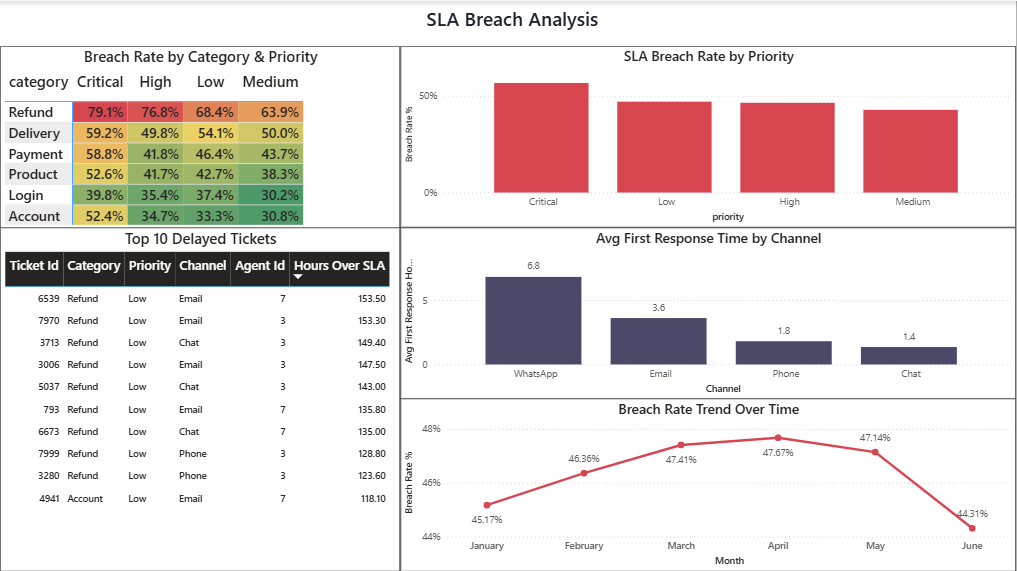

The dashboard page shown, as its layout file describes it:
{"tool":"powerbi","page":{"name":"SLA Breach Analysis","canvas":[1280,720],"ordinal":1},"visuals":[{"type":"textbox","box":[11.3,0,1268,69.9],"z":0},{"type":"pivotTable","title":"Breach Rate by Category & Priority","fields":{"Rows":["SLA Breach Analysis.category"],"Columns":["SLA Breach Analysis.priority"],"Values":["SLA Breach Analysis.Breach Rate %"]},"box":[0,57.5,504.2,239.2],"z":1000},{"type":"clusteredColumnChart","title":"SLA Breach Rate by Priority","fields":{"Y":["SLA Breach Analysis.Breach Rate %"],"Category":["SLA Breach Analysis.priority"]},"box":[504.2,57.5,775.3,228.6],"z":2000},{"type":"clusteredColumnChart","title":"Avg First Response Time by Channel ","fields":{"Category":["SLA Breach Analysis.channel"],"Y":["SLA Breach Analysis.Avg First Response Hours (Ticket)"]},"box":[504.2,284.7,775.3,216.5],"z":3000},{"type":"lineChart","title":"Breach Rate Trend Over Time","fields":{"Category":["SLA Breach Analysis.created_month.Variation.Date Hierarchy.Month","SLA Breach Analysis.created_month.Variation.Date Hierarchy.Day"],"Y":["SLA Breach Analysis.Breach Rate %"]},"box":[504.2,501.2,775.3,218],"z":4000},{"type":"tableEx","title":"Top 10 Delayed Tickets","fields":{"Values":["Top Delayed Tickets.ticket_id","Top Delayed Tickets.category","Top Delayed Tickets.priority","Top Delayed Tickets.channel","Top Delayed Tickets.agent_id","Sum(Top Delayed Tickets.hours_over_sla)"]},"box":[0,284.7,504.2,433.1],"z":5000}]}

Visuals, with their boxes in screenshot pixels (x1, y1, x2, y2), scaled from the page's 1280x720 canvas onto the 1017x571 screenshot:
textbox: x1=9, y1=0, x2=1016, y2=55
"Breach Rate by Category & Priority" pivotTable: x1=0, y1=46, x2=401, y2=235
"SLA Breach Rate by Priority" clusteredColumnChart: x1=401, y1=46, x2=1016, y2=227
"Avg First Response Time by Channel " clusteredColumnChart: x1=401, y1=226, x2=1016, y2=397
"Breach Rate Trend Over Time" lineChart: x1=401, y1=397, x2=1016, y2=570
"Top 10 Delayed Tickets" tableEx: x1=0, y1=226, x2=401, y2=569
